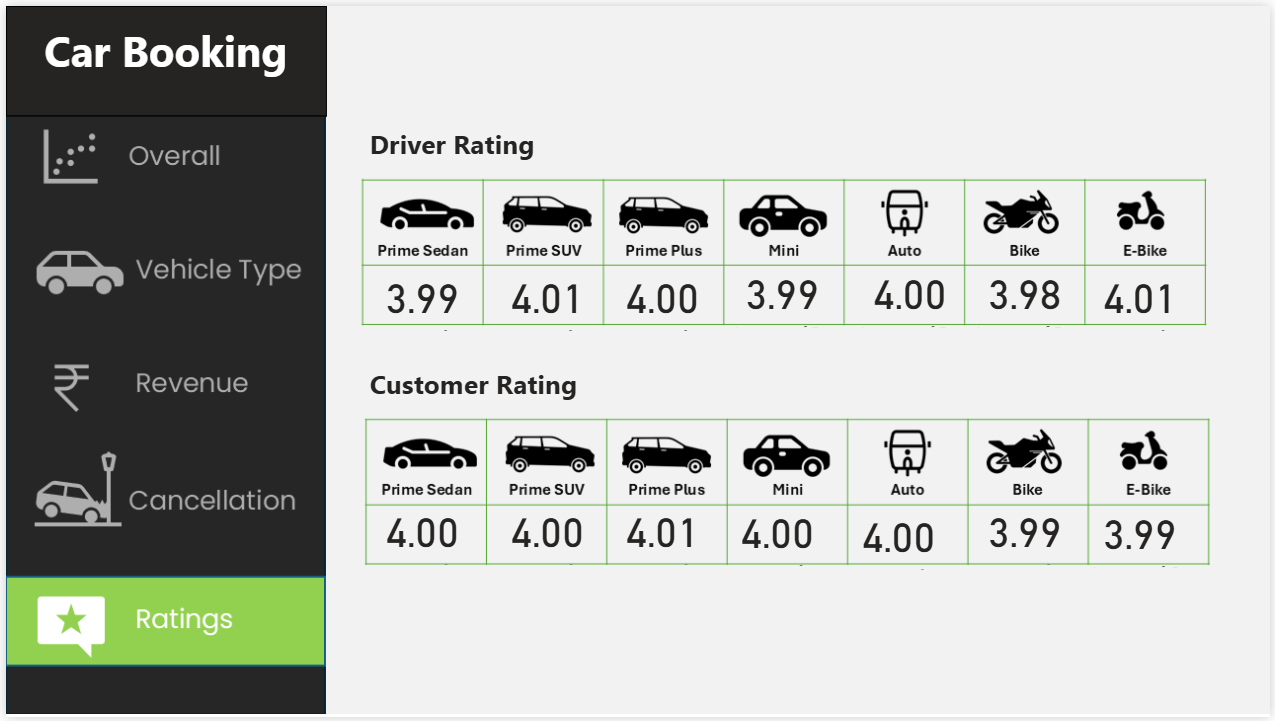

The page's visual inventory and layout, read from the dashboard file:
{"tool":"powerbi","page":{"name":"Rating","canvas":[1280,720],"ordinal":4},"visuals":[{"type":"actionButton","box":[0,226.8,324.5,88.1],"z":0},{"type":"actionButton","box":[0,338.8,325,91.2],"z":1000},{"type":"actionButton","box":[0,448.8,325,91.2],"z":2000},{"type":"actionButton","box":[0,577.5,325,90],"z":3000},{"type":"actionButton","box":[0,105,325,88.8],"z":4000},{"type":"card","fields":{"Values":["Avg(Booking.Driver_Ratings)"]},"box":[363.3,271.7,116.7,61.7],"z":5000},{"type":"card","fields":{"Values":["Avg(Booking.Customer_Rating)"]},"box":[363.3,508.3,116.7,61.7],"z":6000},{"type":"card","fields":{"Values":["Avg(Booking.Driver_Ratings)"]},"box":[1090,271.7,116.7,61.7],"z":7000},{"type":"card","fields":{"Values":["Avg(Booking.Driver_Ratings)"]},"box":[973.3,268.3,116.7,61.7],"z":8000},{"type":"card","fields":{"Values":["Avg(Booking.Driver_Ratings)"]},"box":[856.7,268.3,116.7,61.7],"z":9000},{"type":"card","fields":{"Values":["Avg(Booking.Driver_Ratings)"]},"box":[728.3,268.3,116.7,61.7],"z":10000},{"type":"card","fields":{"Values":["Avg(Booking.Driver_Ratings)"]},"box":[490,271.7,116.7,61.7],"z":11000},{"type":"card","fields":{"Values":["Avg(Booking.Driver_Ratings)"]},"box":[606.7,271.7,116.7,61.7],"z":12000},{"type":"card","fields":{"Values":["Avg(Booking.Customer_Rating)"]},"box":[1090,511.7,116.7,61.7],"z":13000},{"type":"card","fields":{"Values":["Avg(Booking.Customer_Rating)"]},"box":[973.3,508.3,116.7,61.7],"z":14000},{"type":"card","fields":{"Values":["Avg(Booking.Customer_Rating)"]},"box":[845,513.3,116.7,61.7],"z":15000},{"type":"card","fields":{"Values":["Avg(Booking.Customer_Rating)"]},"box":[723.3,510,116.7,61.7],"z":16000},{"type":"card","fields":{"Values":["Avg(Booking.Customer_Rating)"]},"box":[606.7,508.3,116.7,61.7],"z":17000},{"type":"card","fields":{"Values":["Avg(Booking.Customer_Rating)"]},"box":[490,508.3,116.7,61.7],"z":18000},{"type":"textbox","box":[363.3,360,328.3,70],"z":19000},{"type":"textbox","box":[363.3,116.7,311.7,56.7],"z":20000},{"type":"shape","box":[0,0,325,111.7],"z":21000},{"type":"textbox","box":[0,10,323.8,82.5],"z":22000}]}

Visuals, with their boxes in screenshot pixels (x1, y1, x2, y2), scaled from the page's 1280x720 canvas onto the 1275x721 screenshot:
actionButton: 0/227/323/315
actionButton: 0/339/324/431
actionButton: 0/449/324/541
actionButton: 0/578/324/668
actionButton: 0/105/324/194
card - Avg(Booking.Driver_Ratings): 362/272/478/334
card - Avg(Booking.Customer_Rating): 362/509/478/571
card - Avg(Booking.Driver_Ratings): 1086/272/1202/334
card - Avg(Booking.Driver_Ratings): 969/269/1086/330
card - Avg(Booking.Driver_Ratings): 853/269/970/330
card - Avg(Booking.Driver_Ratings): 725/269/842/330
card - Avg(Booking.Driver_Ratings): 488/272/604/334
card - Avg(Booking.Driver_Ratings): 604/272/721/334
card - Avg(Booking.Customer_Rating): 1086/512/1202/574
card - Avg(Booking.Customer_Rating): 969/509/1086/571
card - Avg(Booking.Customer_Rating): 842/514/958/576
card - Avg(Booking.Customer_Rating): 720/511/837/572
card - Avg(Booking.Customer_Rating): 604/509/721/571
card - Avg(Booking.Customer_Rating): 488/509/604/571
textbox: 362/360/689/431
textbox: 362/117/672/174
shape: 0/0/324/112
textbox: 0/10/323/93
